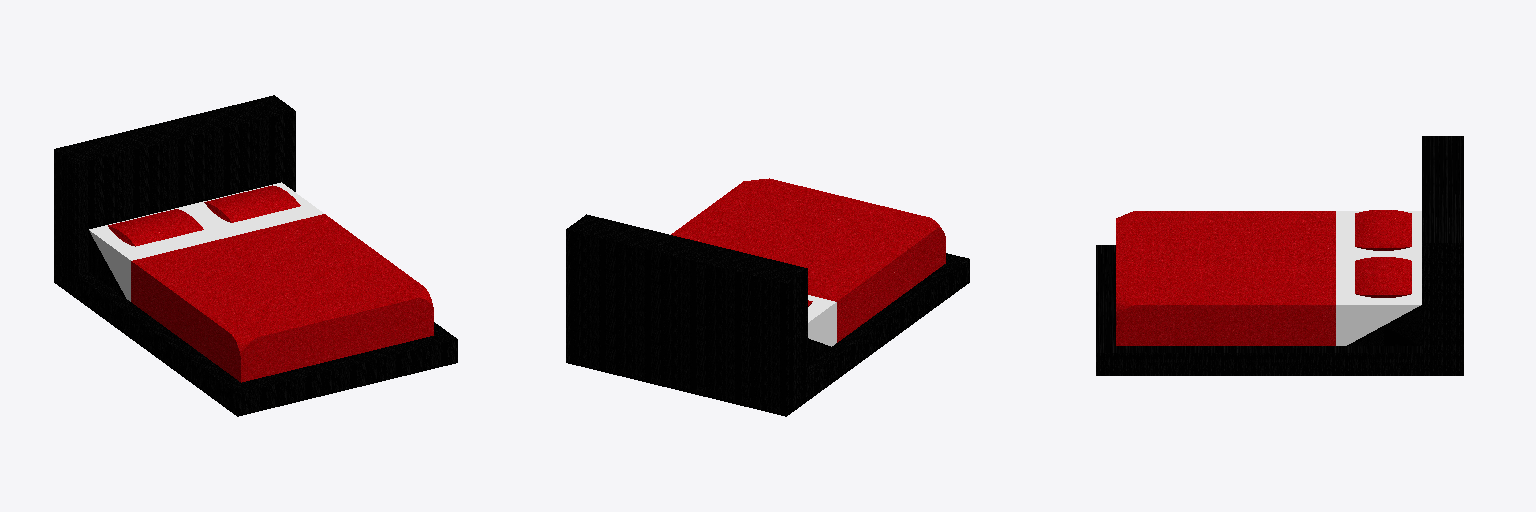
3 renders of one model, left to right at view 1: azimuth 30°, elevation 25°; view 2: azimuth 150°, elevation 25°; view 3: azimuth 270°, elevation 25°, orthographic.
Visible parts, largest first — view 1: Mesh7 G_3DGeom_2 Model, Mesh6 G_3DGeom_1 Model, Mesh8 G_3DGeom_3 Model, Mesh5 G_3DGeom_1 Model, Mesh4 G_3DGeom_1 Model, Mesh1 G_3DGeom_5 Model; view 2: Mesh7 G_3DGeom_2 Model, Mesh6 G_3DGeom_1 Model, Mesh8 G_3DGeom_3 Model; view 3: Mesh6 G_3DGeom_1 Model, Mesh7 G_3DGeom_2 Model, Mesh8 G_3DGeom_3 Model, Mesh5 G_3DGeom_1 Model, Mesh4 G_3DGeom_1 Model, Mesh1 G_3DGeom_5 Model.
Part boxes in pixels (left/top/right/bottom): Mesh7 G_3DGeom_2 Model: left=54, top=95, right=457, bottom=416; Mesh6 G_3DGeom_1 Model: left=131, top=214, right=433, bottom=382; Mesh8 G_3DGeom_3 Model: left=89, top=182, right=318, bottom=298; Mesh5 G_3DGeom_1 Model: left=204, top=185, right=300, bottom=222; Mesh4 G_3DGeom_1 Model: left=108, top=209, right=203, bottom=246; Mesh1 G_3DGeom_5 Model: left=127, top=210, right=323, bottom=260; Mesh7 G_3DGeom_2 Model: left=566, top=214, right=969, bottom=416; Mesh6 G_3DGeom_1 Model: left=671, top=178, right=945, bottom=342; Mesh8 G_3DGeom_3 Model: left=808, top=300, right=831, bottom=346; Mesh6 G_3DGeom_1 Model: left=1116, top=211, right=1335, bottom=345; Mesh7 G_3DGeom_2 Model: left=1096, top=136, right=1463, bottom=375; Mesh8 G_3DGeom_3 Model: left=1345, top=211, right=1421, bottom=345; Mesh5 G_3DGeom_1 Model: left=1355, top=257, right=1411, bottom=297; Mesh4 G_3DGeom_1 Model: left=1355, top=210, right=1411, bottom=250; Mesh1 G_3DGeom_5 Model: left=1336, top=211, right=1344, bottom=304.
Size of the model in its own units: 329 by 189 by 475.
Materials: 31 (28 with a texture image).